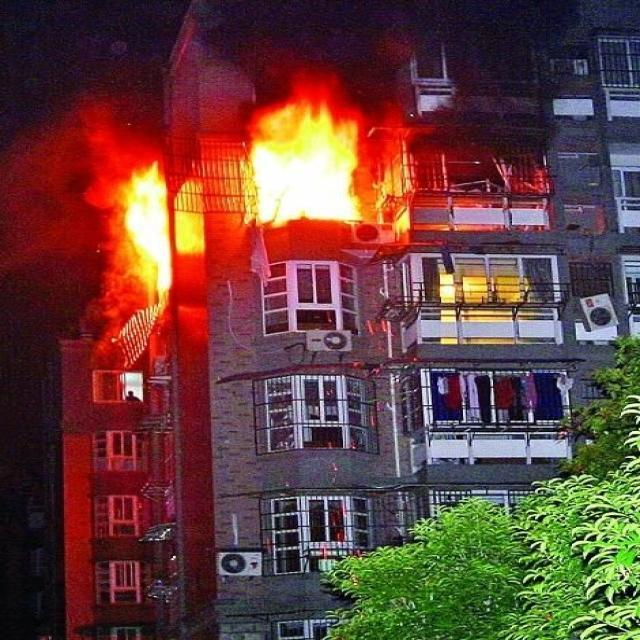Fire: (238, 104, 365, 230), (120, 162, 203, 294), (437, 272, 534, 344)
Smoke: (7, 90, 166, 352), (266, 49, 348, 102)
